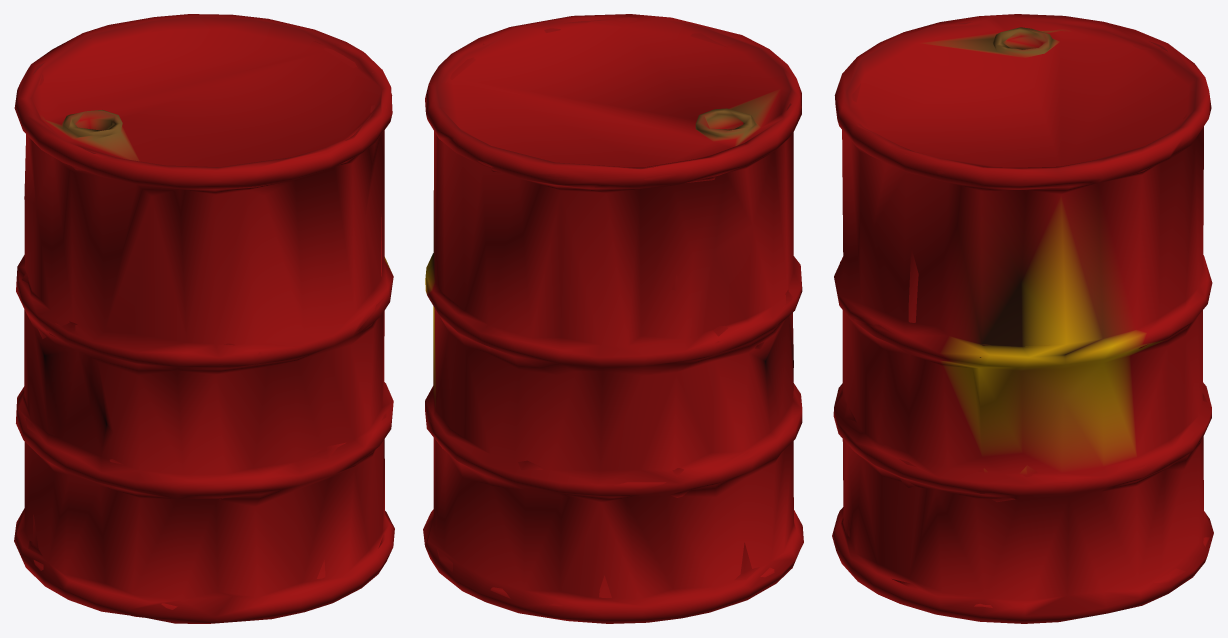
File: gen3d-explosive-barrel-lod1.glb
3 renders of one model, left to right at view 1: azimuth 30°, elevation 25°; view 2: azimuth 150°, elevation 25°; view 3: azimuth 270°, elevation 25°, orthographic.
Visible parts, largest first — view 1: part_0; view 2: part_0; view 3: part_0.
Part boxes in pixels (box(x1,y1,x2,y2)): part_0: box(14, 14, 394, 623); part_0: box(423, 14, 803, 623); part_0: box(832, 14, 1213, 623).
Bounding box in the file's own units: 0.762 × 0.9998 × 0.7626.
